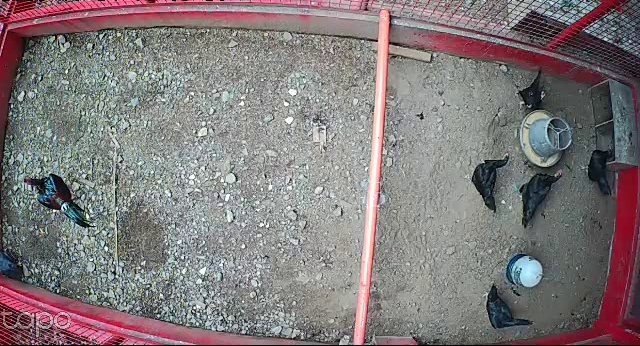Chicken: (514, 168, 565, 229), (469, 150, 512, 213), (481, 282, 537, 328), (578, 145, 615, 196), (514, 68, 549, 113)
Drinker: (506, 254, 544, 289)
Feeder: (520, 109, 572, 168)
Rooster: (22, 173, 98, 229)
